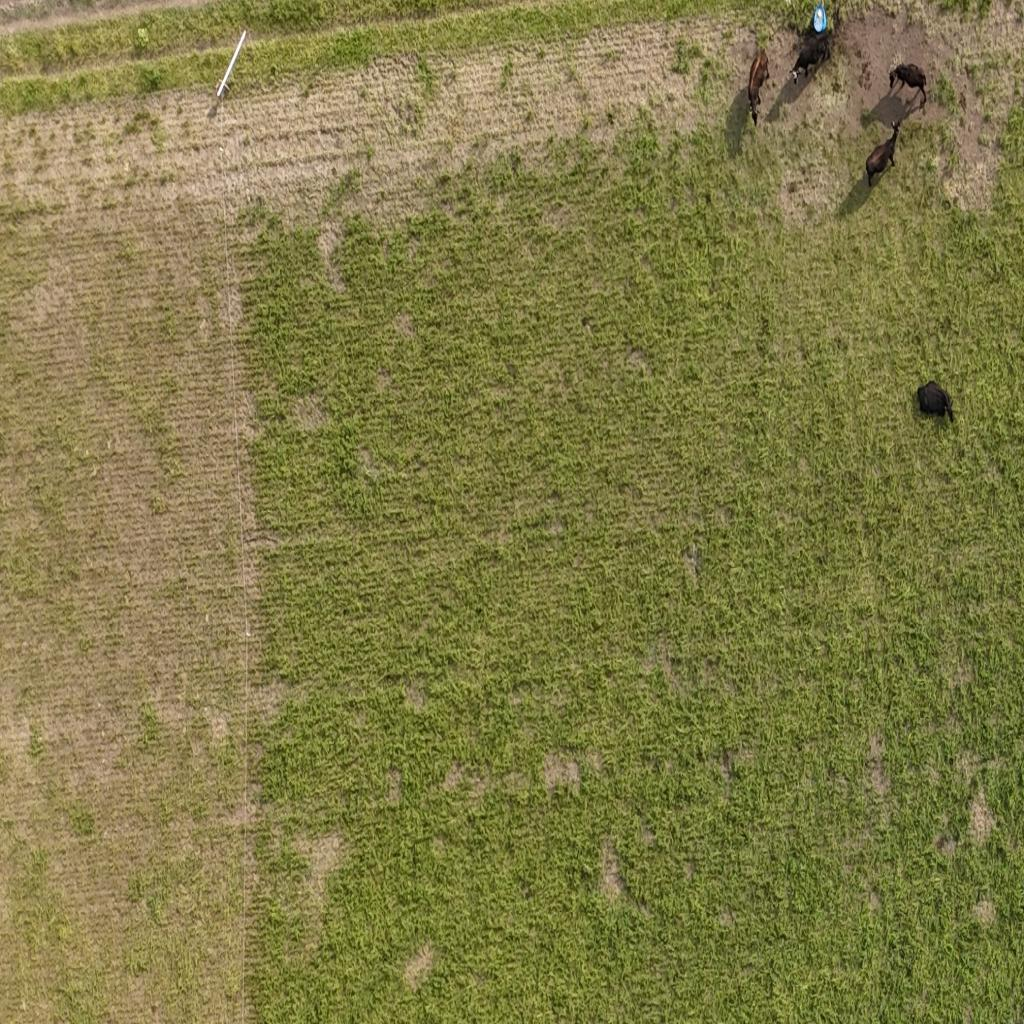cow: (912, 373, 958, 432), (786, 27, 832, 86), (863, 118, 901, 188), (886, 58, 930, 117), (742, 44, 768, 131)
